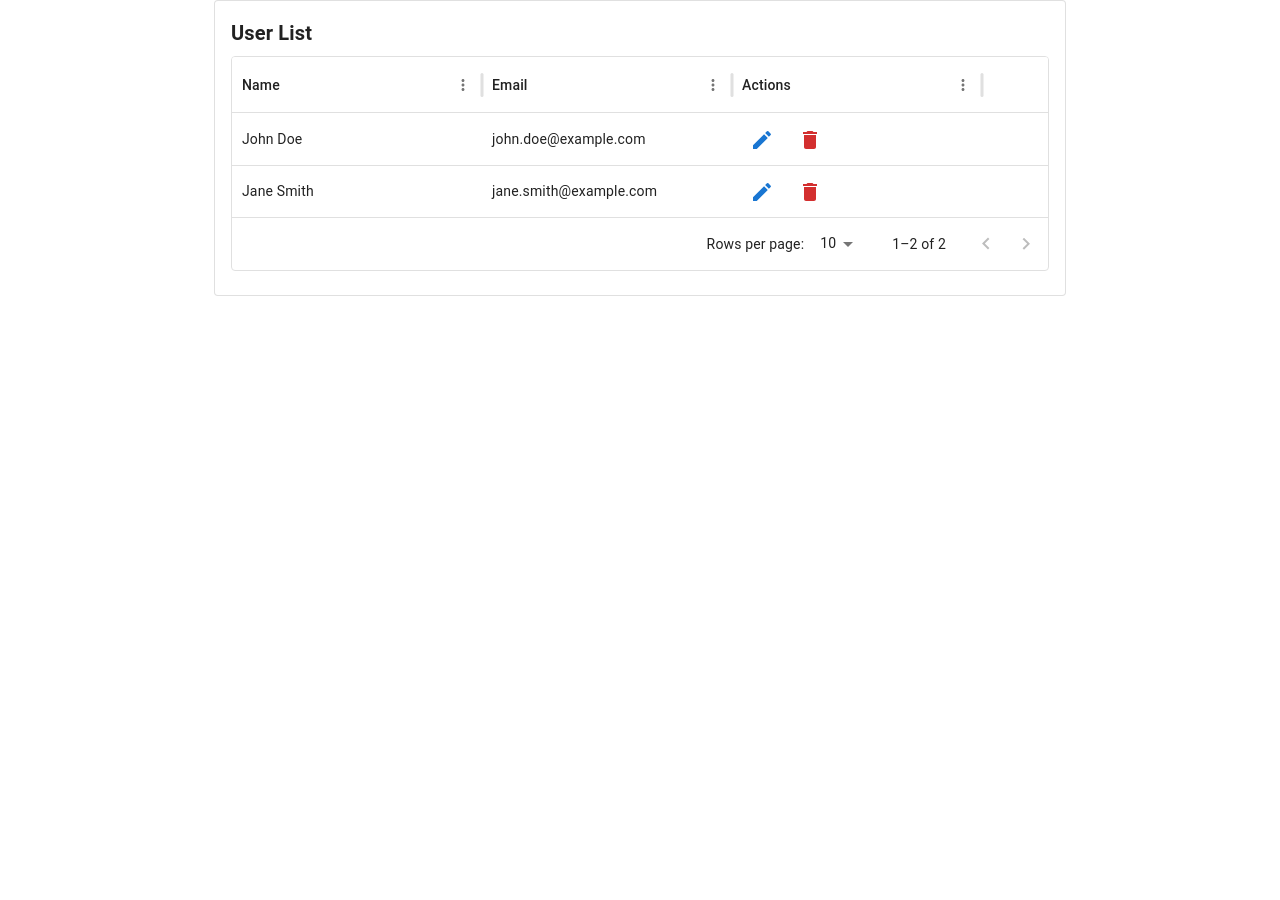
Test: UserList › opens and closes modal for adding a new user
The width and height of the screenshot is (1280, 900).
// Click the edit button for the first user
Click the button named "edit" in the row of "John Doe": (762, 140) [742, 120, 782, 160]
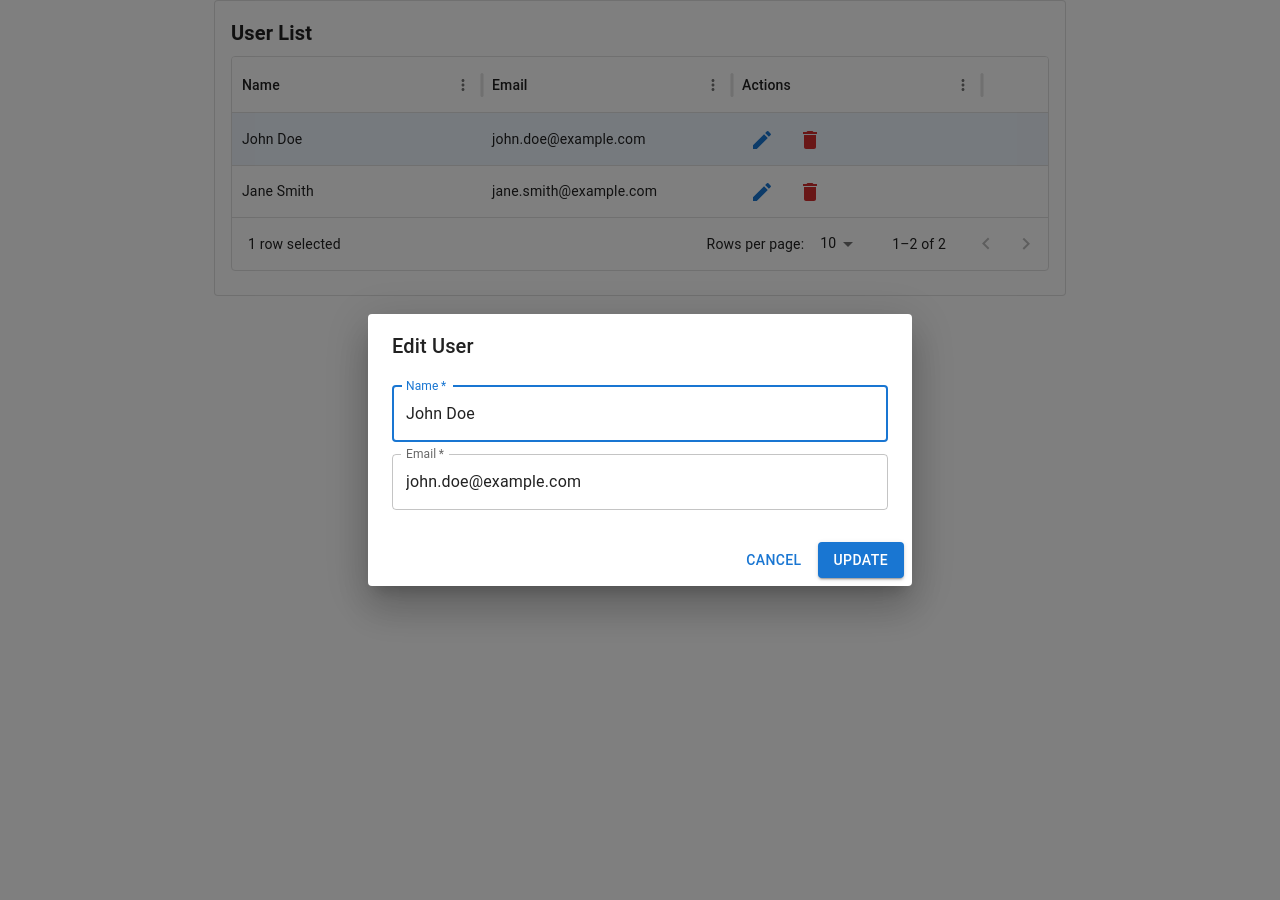
Expected: the heading "Edit User" is shown, [392, 334, 474, 358]
// Close the modal
Click the button "Cancel": (774, 560) [738, 542, 810, 578]
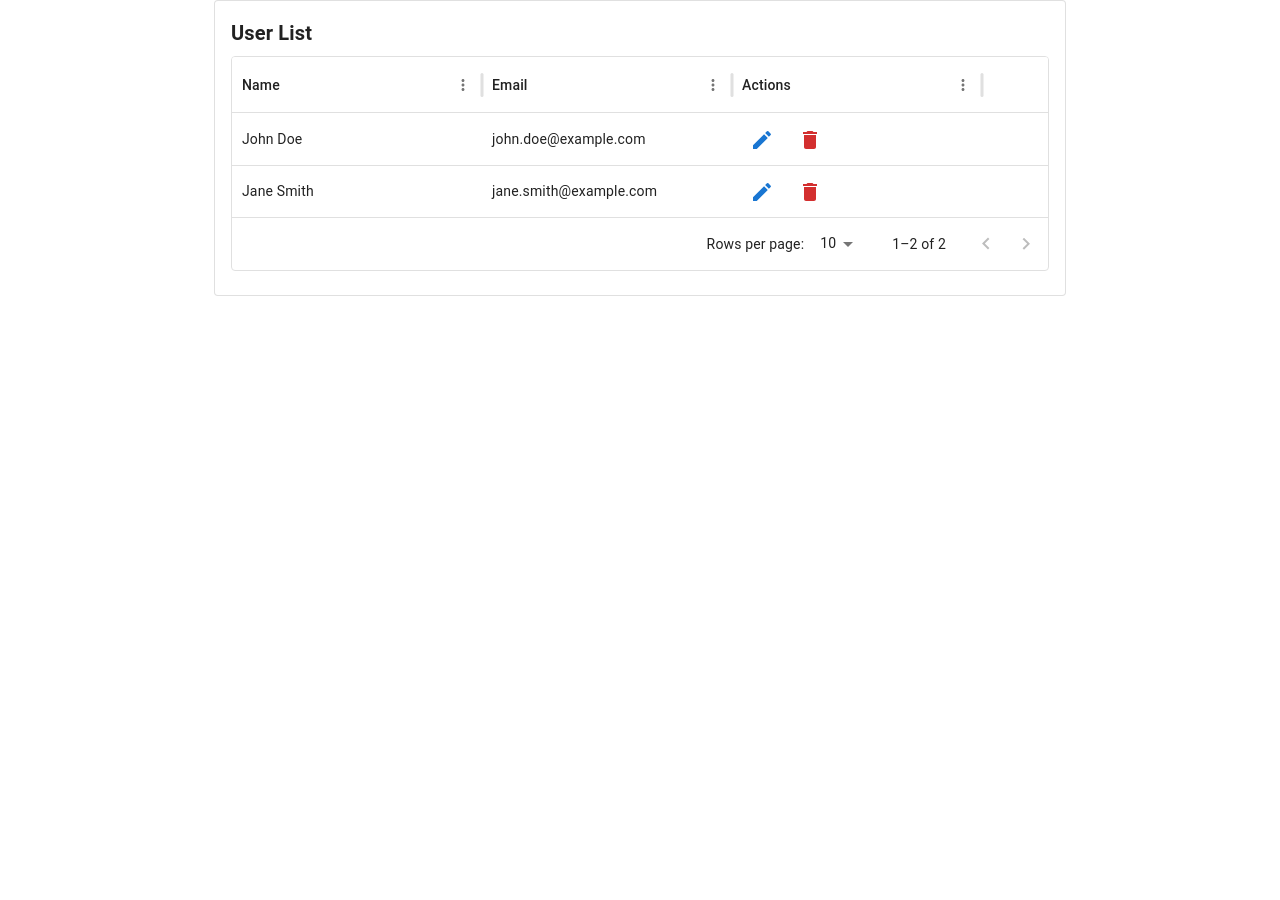
Expected: the heading "Edit User" is gone
